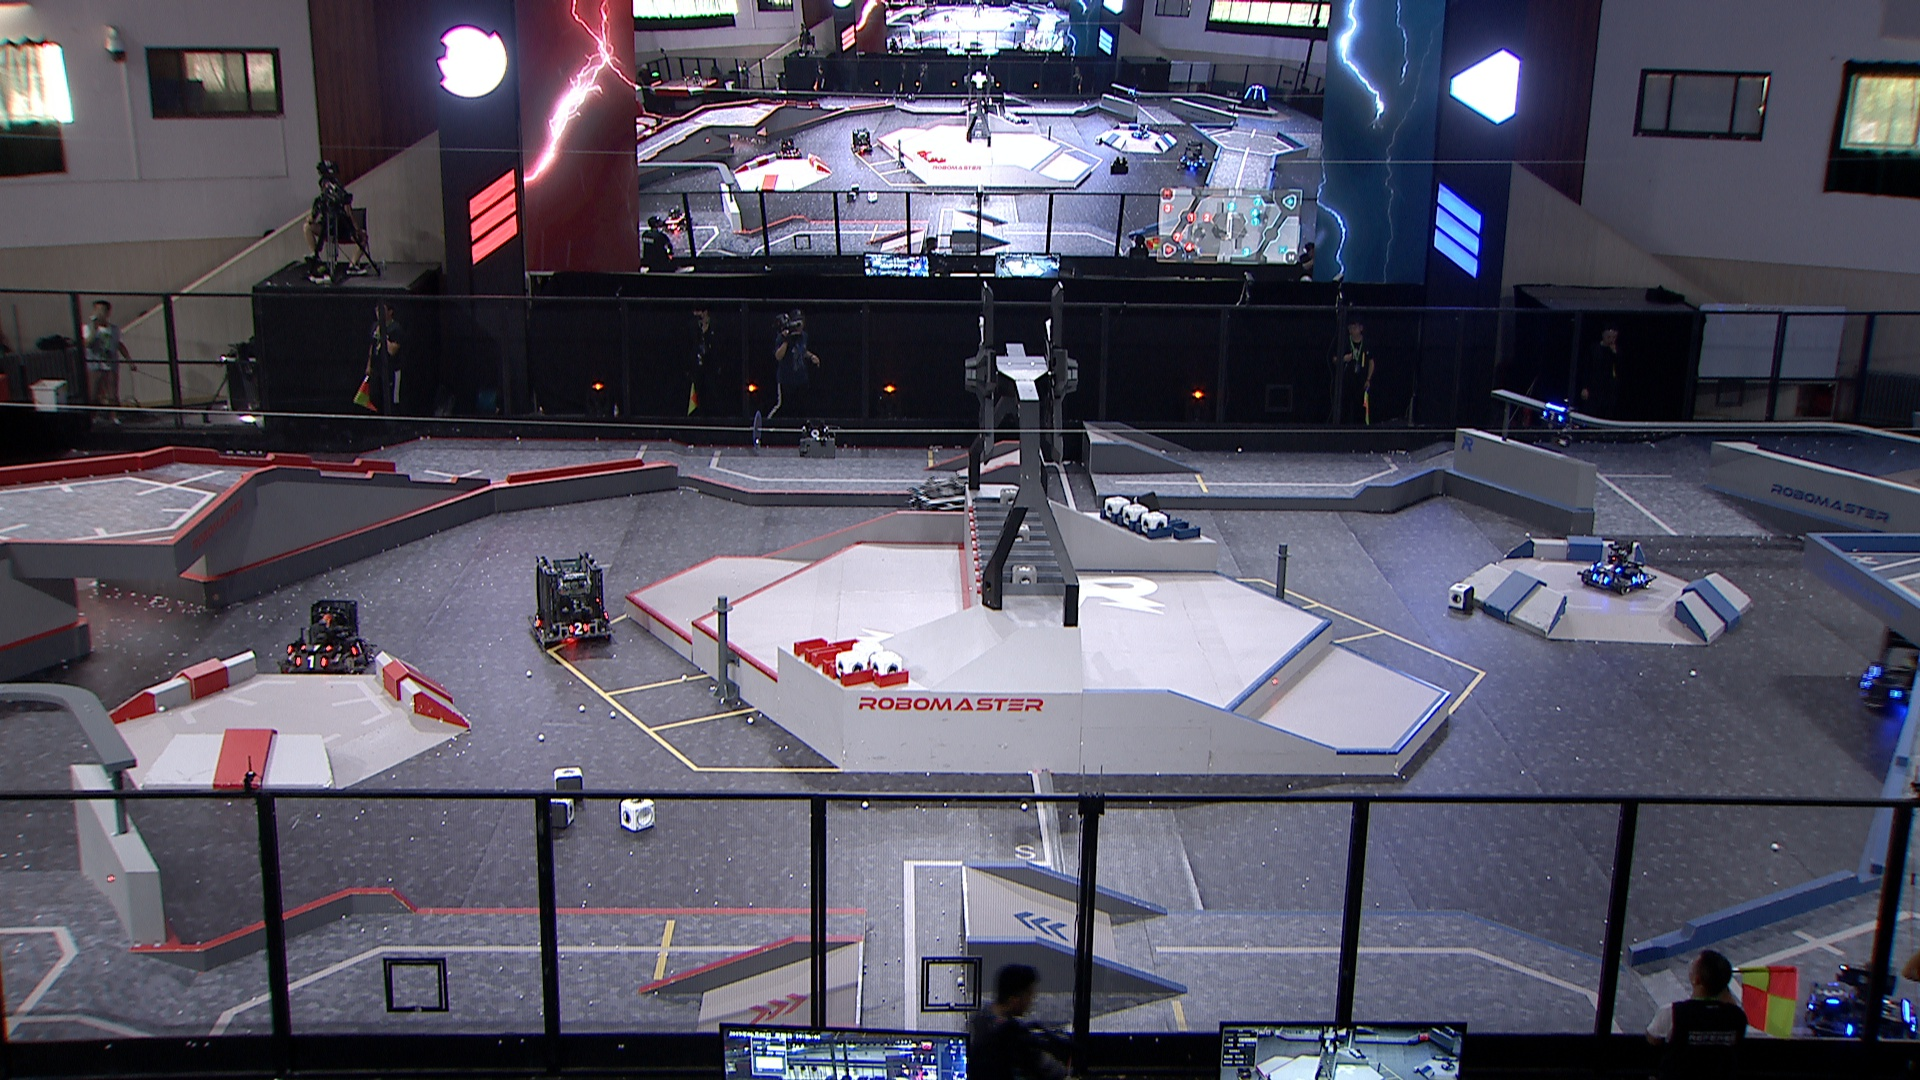armor: (291, 654, 327, 669), (1822, 982, 1842, 1005), (349, 637, 367, 657), (301, 641, 332, 651), (1808, 992, 1822, 1014), (567, 622, 589, 636), (1596, 560, 1619, 572), (1544, 409, 1565, 422), (1592, 570, 1607, 585), (1629, 572, 1646, 585), (531, 615, 545, 629)
car: (1801, 955, 1917, 1054), (524, 549, 615, 647), (909, 469, 1004, 560), (272, 595, 375, 675), (1851, 605, 1920, 713), (1575, 535, 1656, 597)
ignore: (1176, 140, 1211, 173), (665, 204, 699, 233), (1238, 83, 1273, 111), (774, 131, 806, 158), (851, 127, 877, 158), (1131, 119, 1150, 142), (1437, 1054, 1458, 1071), (1120, 83, 1139, 98)
watcher: (1538, 390, 1581, 444)
